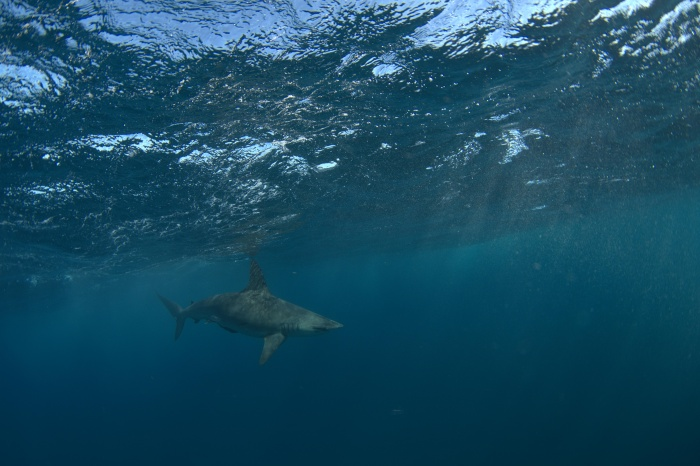Hammer: (111, 232, 365, 370)
